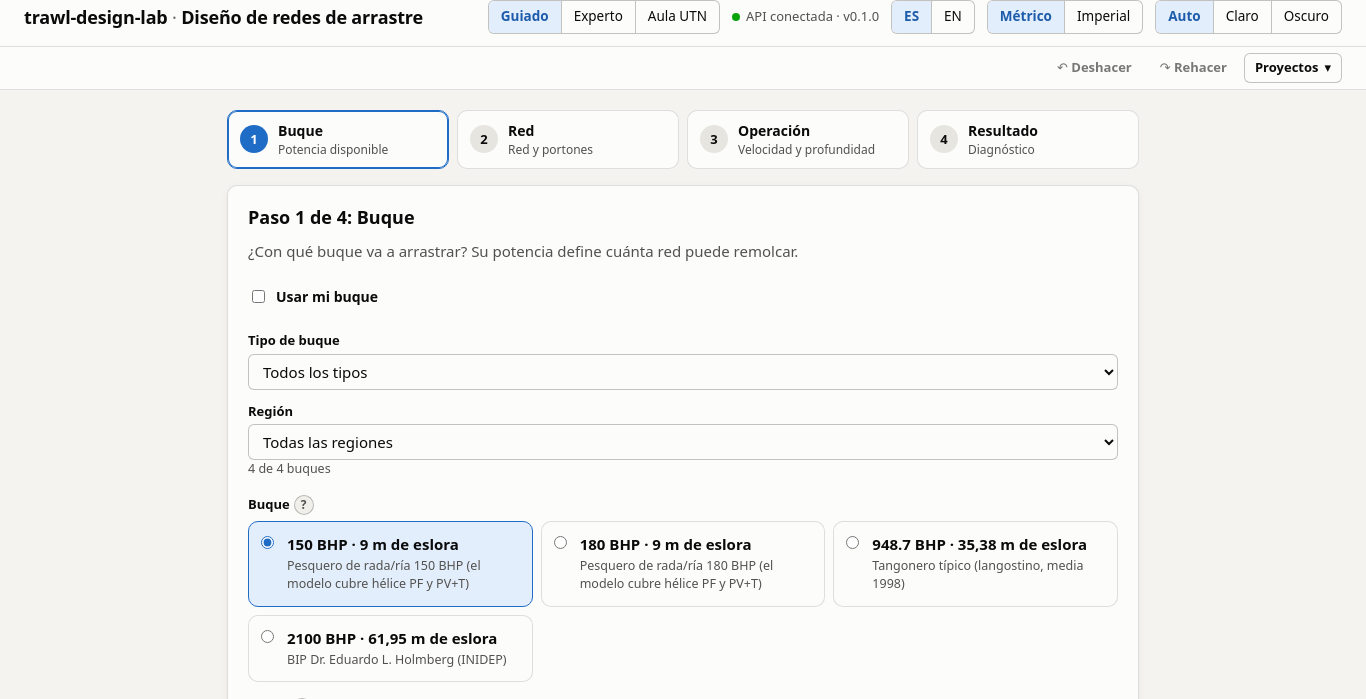
it: Mi buque (modo guiado, español) › valida los datos y no calcula con una hélice sin KF de Fridman publicado
The width and height of the screenshot is (1366, 699).
Check: the radio button labelled "150 BHP" is shown, box 261,536 -> 274,549
Click the checkbox labelled "Usar mi buque".
click(258, 297)  # box 252,290 -> 265,303
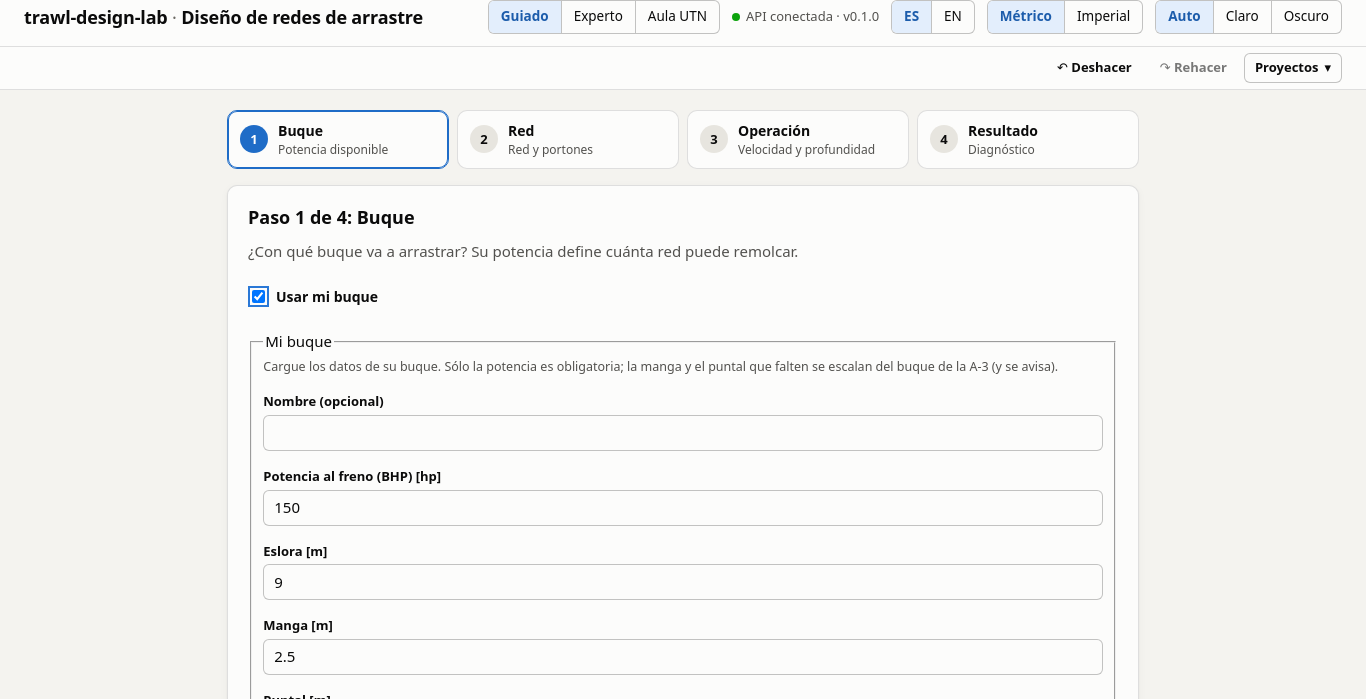
Clear the field labelled "Potencia al freno (BHP) [hp]" at (683, 508), box 263,490 -> 1103,526
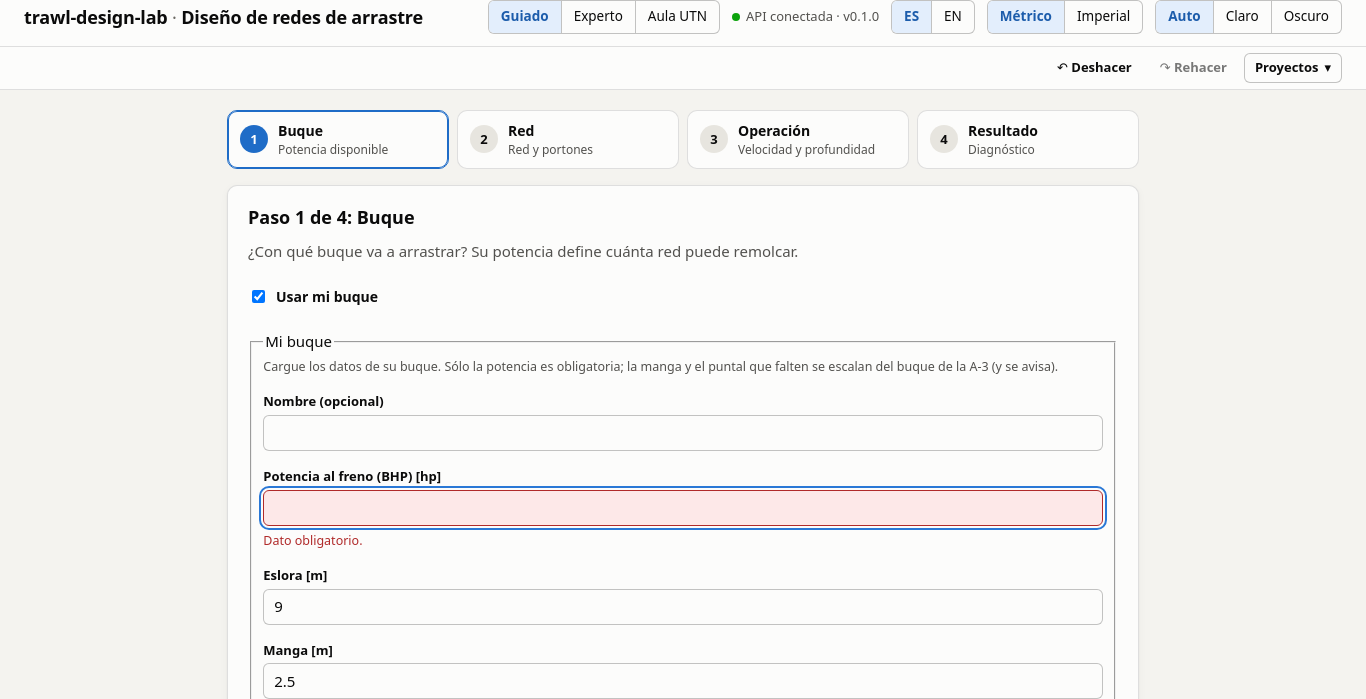
Check: the text "Dato obligatorio." is shown, box 263,532 -> 363,549
Type "abc" into the field labelled "Potencia al freno (BHP) [hp]".
click(683, 508); type("abc")  # box 263,490 -> 1103,526
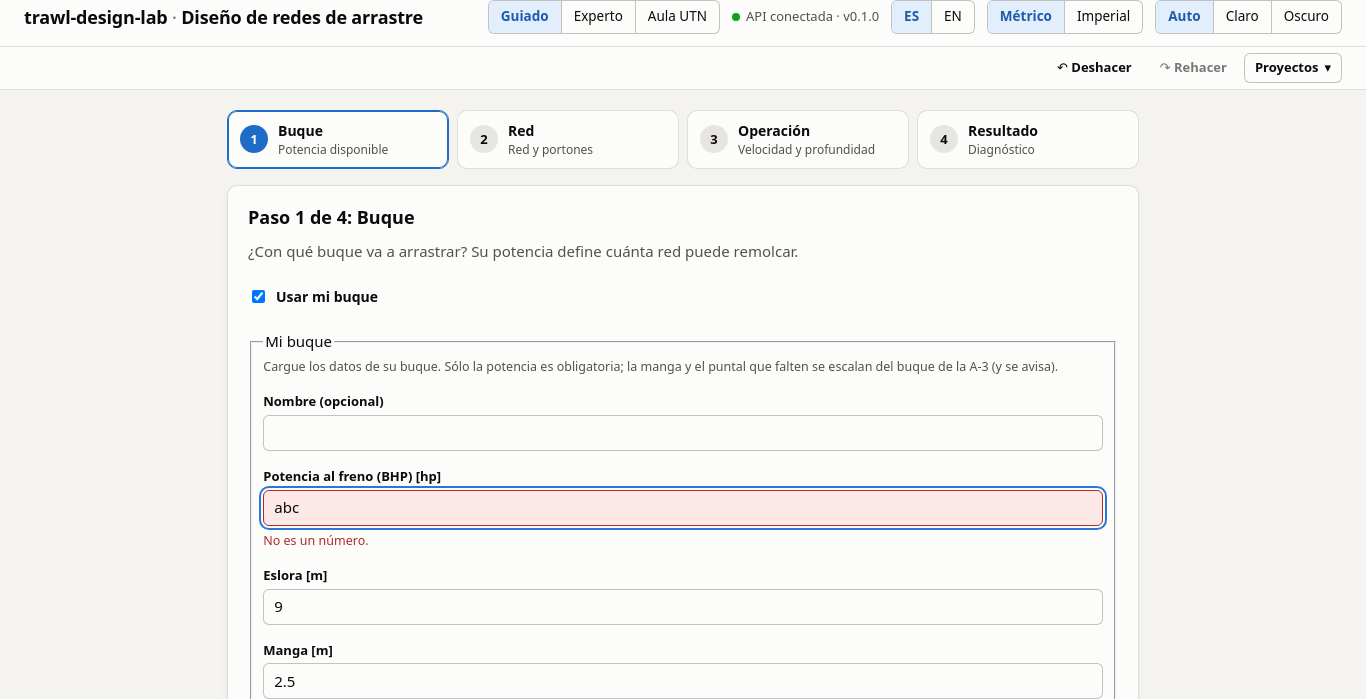
Check: the text "No es un número." is shown, box 263,532 -> 369,549
Replace the text in the field labelled "Potencia al freno (BHP) [hp]" with "200" at (683, 508), box 263,490 -> 1103,526
(page scrolled)
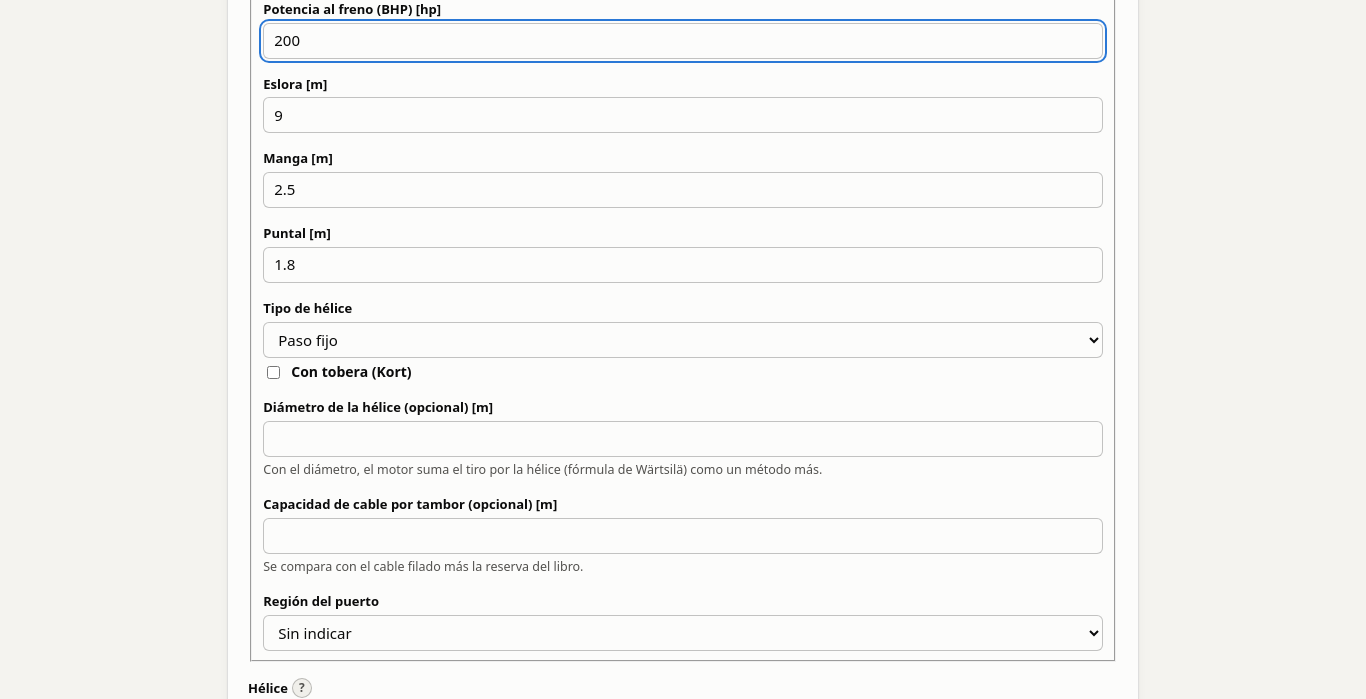
Click the checkbox labelled "Con tobera (Kort)".
click(274, 372)  # box 267,366 -> 280,379
(page scrolled)
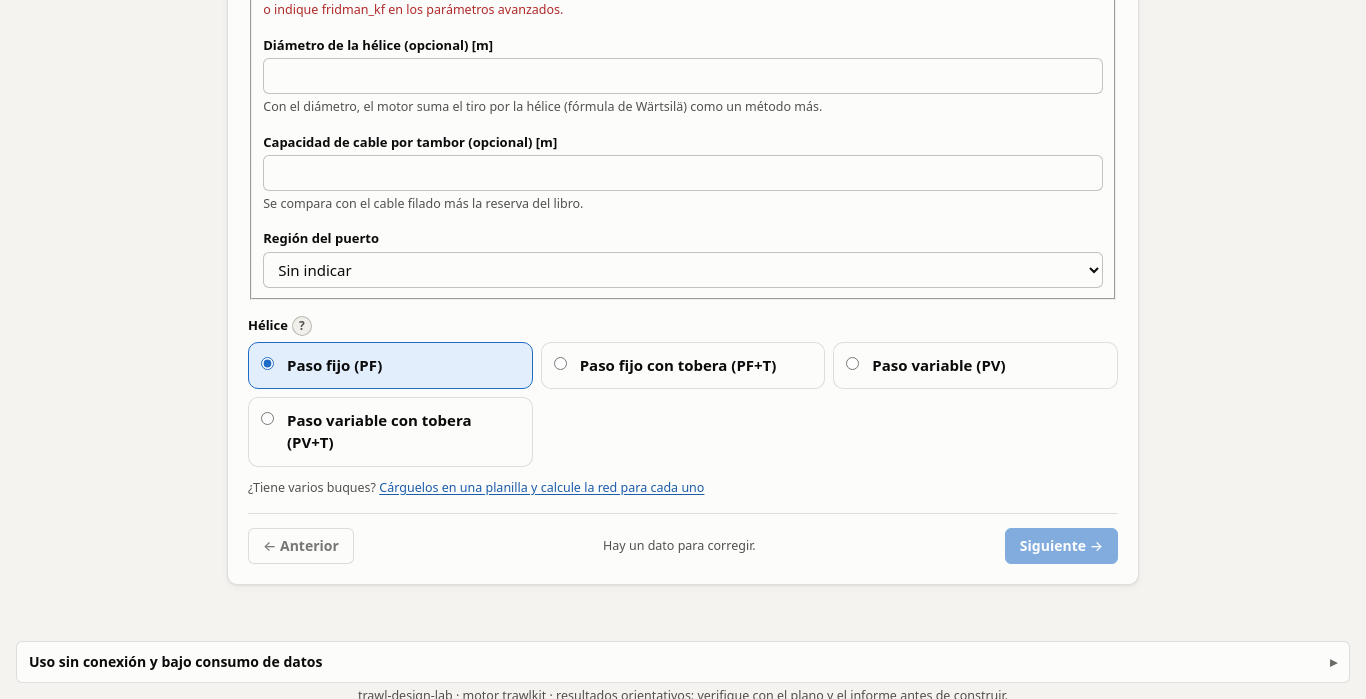
Check: the button "Siguiente →" is disabled, box 1005,528 -> 1118,564
